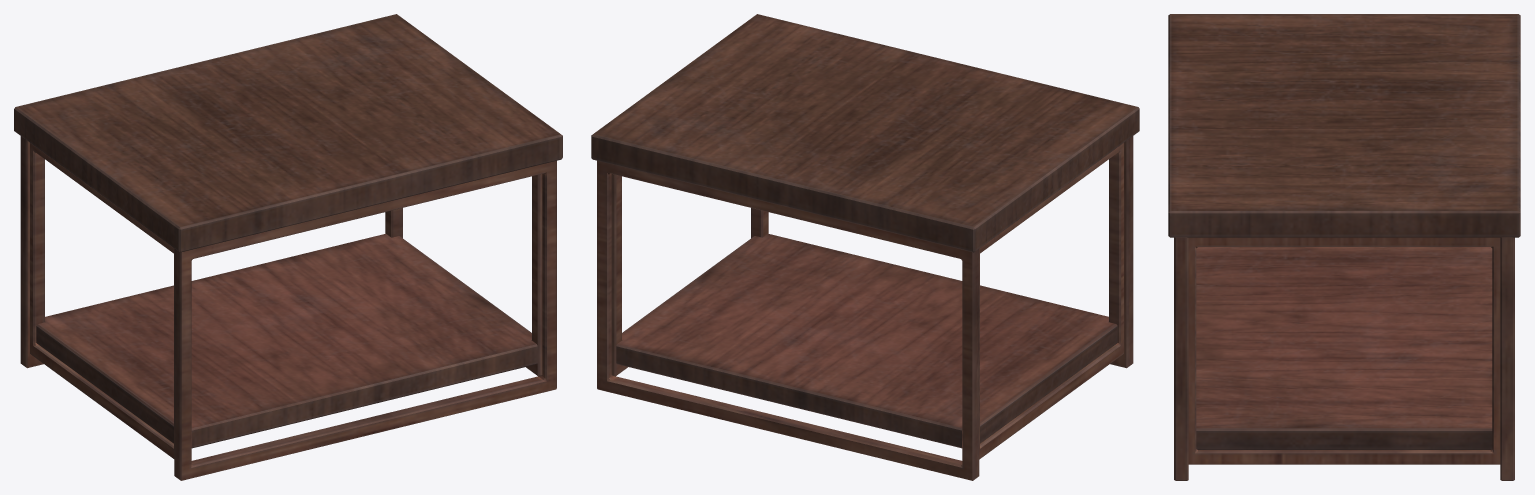
File: Side Table 4.FBX
The picture shows the model from 3 angles, left to right: view 1: azimuth 30°, elevation 25°; view 2: azimuth 150°, elevation 25°; view 3: azimuth 270°, elevation 25°; orthographic projection. The views are drawn at different scales.
Parts seen in each view (by area): view 1: Box493; view 2: Box493; view 3: Box493.
Part boxes in pixels (x1,y1,x2,y2): Box493: (14,14,562,480); Box493: (591,14,1139,480); Box493: (1168,14,1520,480).
Bounding box in the file's own units: 0.8 × 0.5103 × 0.6.
1 material, 1 textured.
